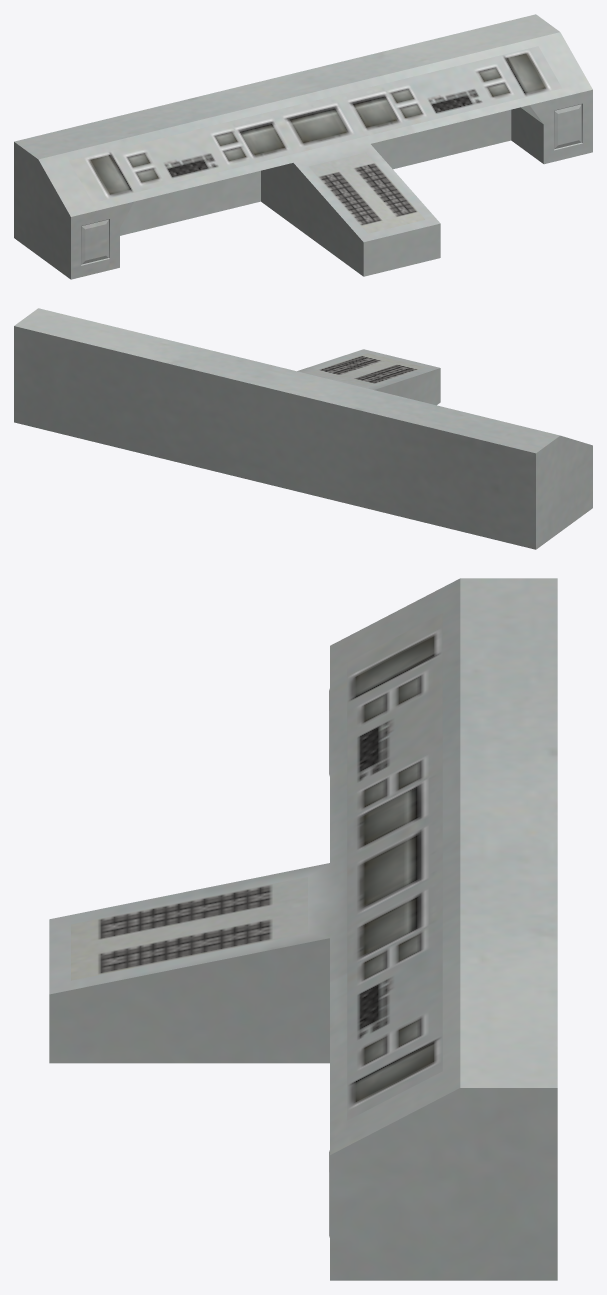
File: FlightDeck.fbx
3 views of the same model, one above another, from view 1: azimuth 30°, elevation 25°; view 2: azimuth 150°, elevation 25°; view 3: azimuth 270°, elevation 25° (orthographic). The views are drawn at different scales.
Visible parts, largest first — view 1: Flight_Deck; view 2: Flight_Deck; view 3: Flight_Deck.
Part boxes in pixels (x1=…): Flight_Deck: x1=14, y1=14, x2=592, y2=279; Flight_Deck: x1=14, y1=308, x2=592, y2=549; Flight_Deck: x1=49, y1=578, x2=557, y2=1280.
Size of the model in its own units: 593 by 105 by 250.
